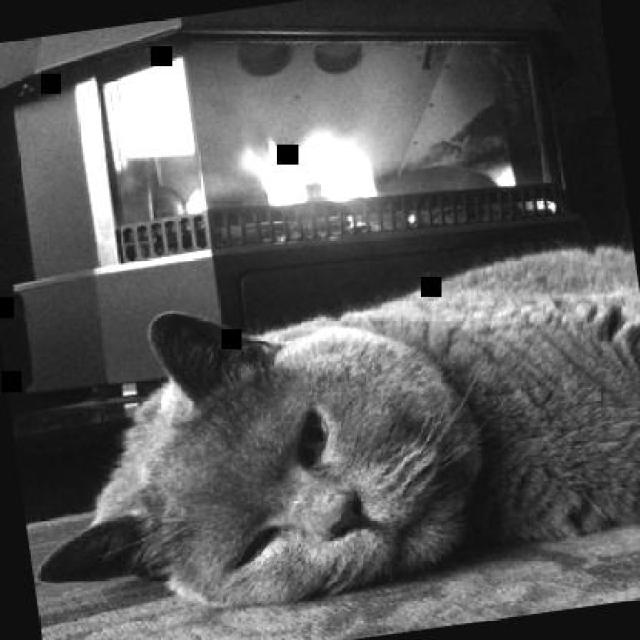cat: (1, 237, 638, 638)
